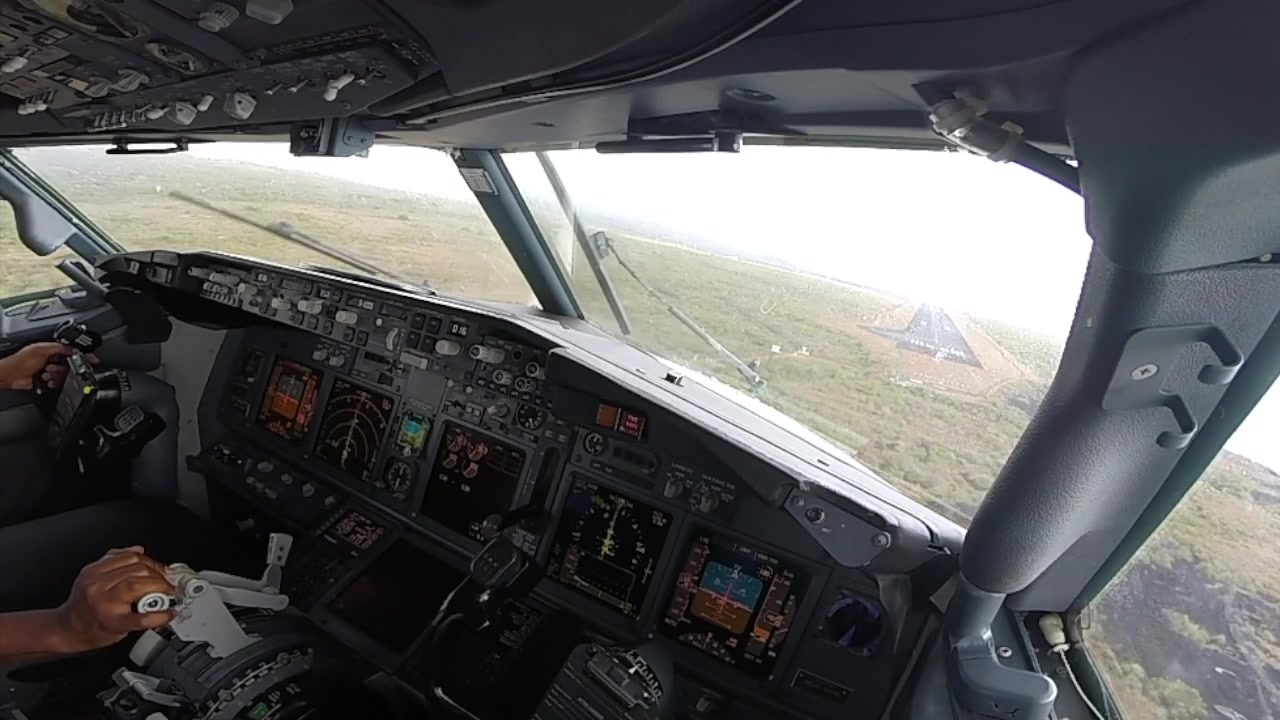entrance: (908, 337, 965, 358)
runway: (897, 300, 985, 369)
